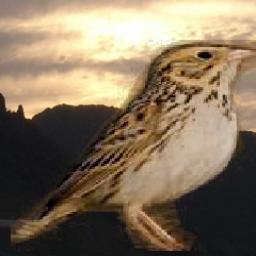Sparrow: (12, 40, 256, 251)
